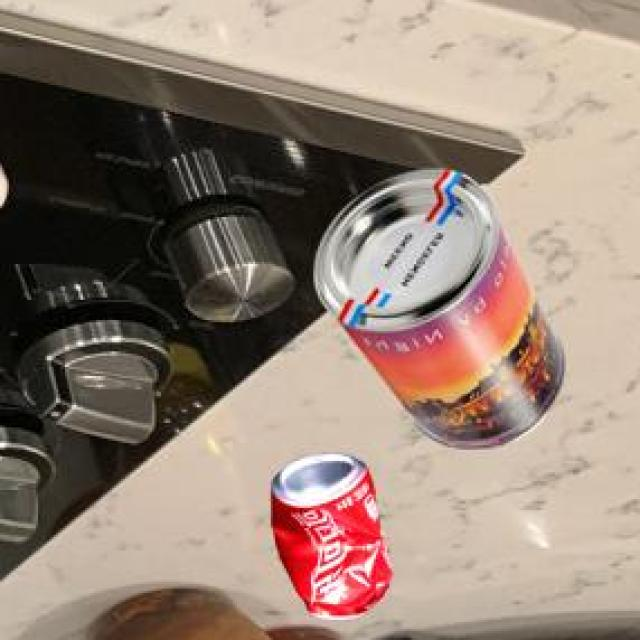logam: (312, 173, 563, 455), (270, 458, 388, 623)
